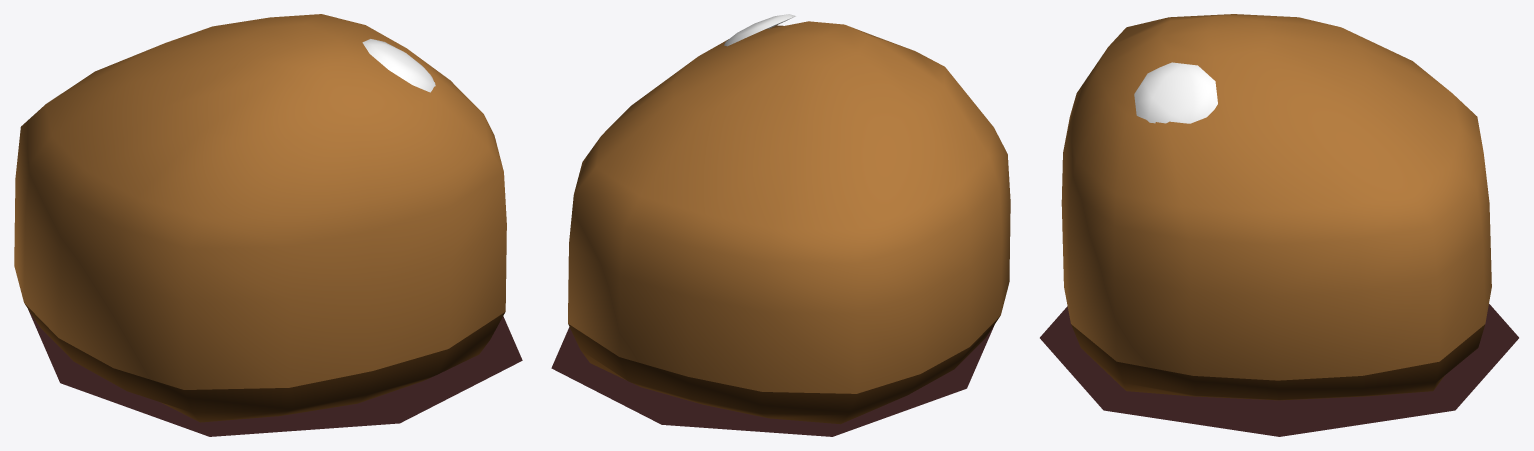
File: Oozium238Mesh.BrownDesert.glb
The picture shows the model from 3 angles, left to right: view 1: azimuth 30°, elevation 25°; view 2: azimuth 150°, elevation 25°; view 3: azimuth 270°, elevation 25°; orthographic projection. The views are drawn at different scales.
Visible parts, largest first — view 1: Oozium238Mesh.BrownDesert; view 2: Oozium238Mesh.BrownDesert; view 3: Oozium238Mesh.BrownDesert.
Boxes of the visible parts, x1,y1,x2,y2 form: Oozium238Mesh.BrownDesert: (14,14,522,436); Oozium238Mesh.BrownDesert: (551,14,1010,436); Oozium238Mesh.BrownDesert: (1040,14,1518,436).
Bounding box in the file's own units: 2.04 × 1.44 × 2.07.
1 material, 1 textured.
